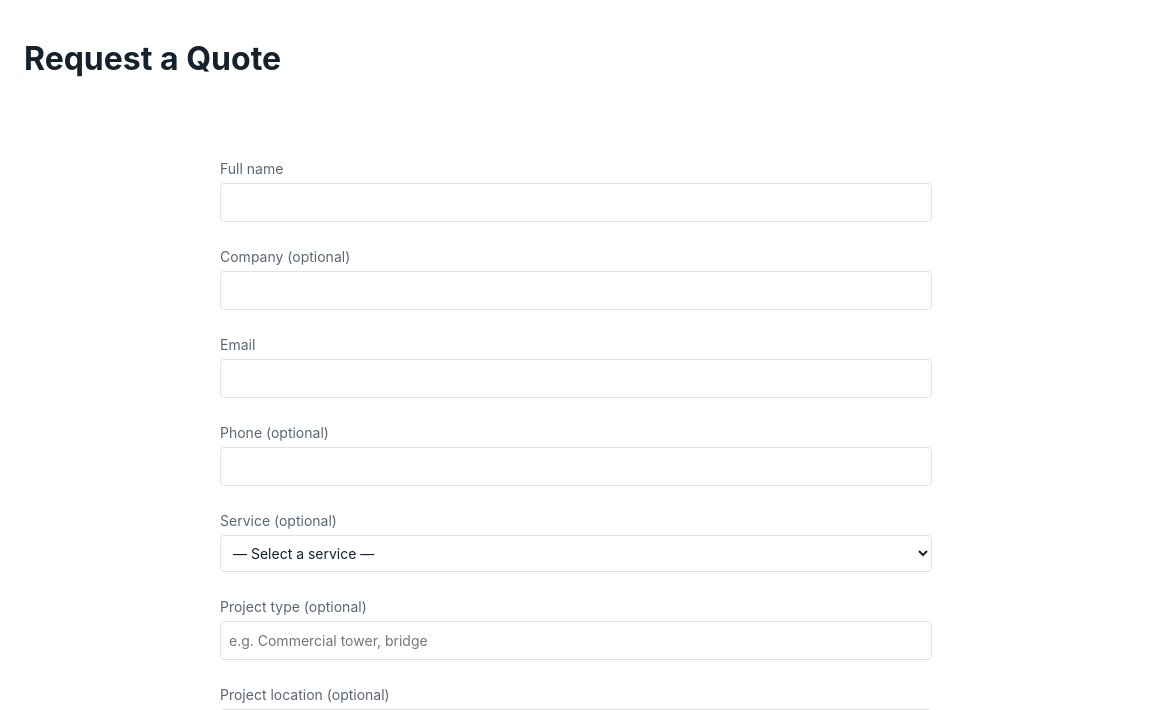
Test: RequestQuotePage › sends service as null when left unselected
Type "Jane Doe" into the field labelled "Full name".
click(576, 203); type("Jane Doe")  # box [220,183,932,222]
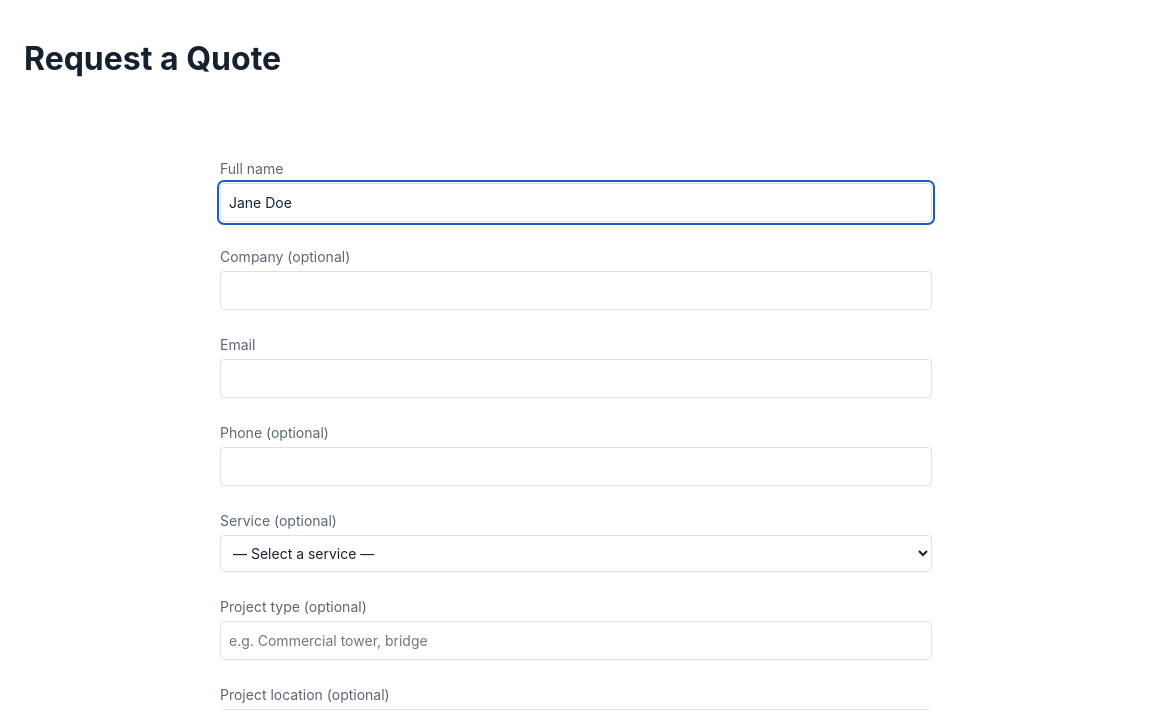
Type "jane@example.com" into the field labelled "Email".
click(576, 379); type("jane@example.com")  # box [220,359,932,398]
(page scrolled)
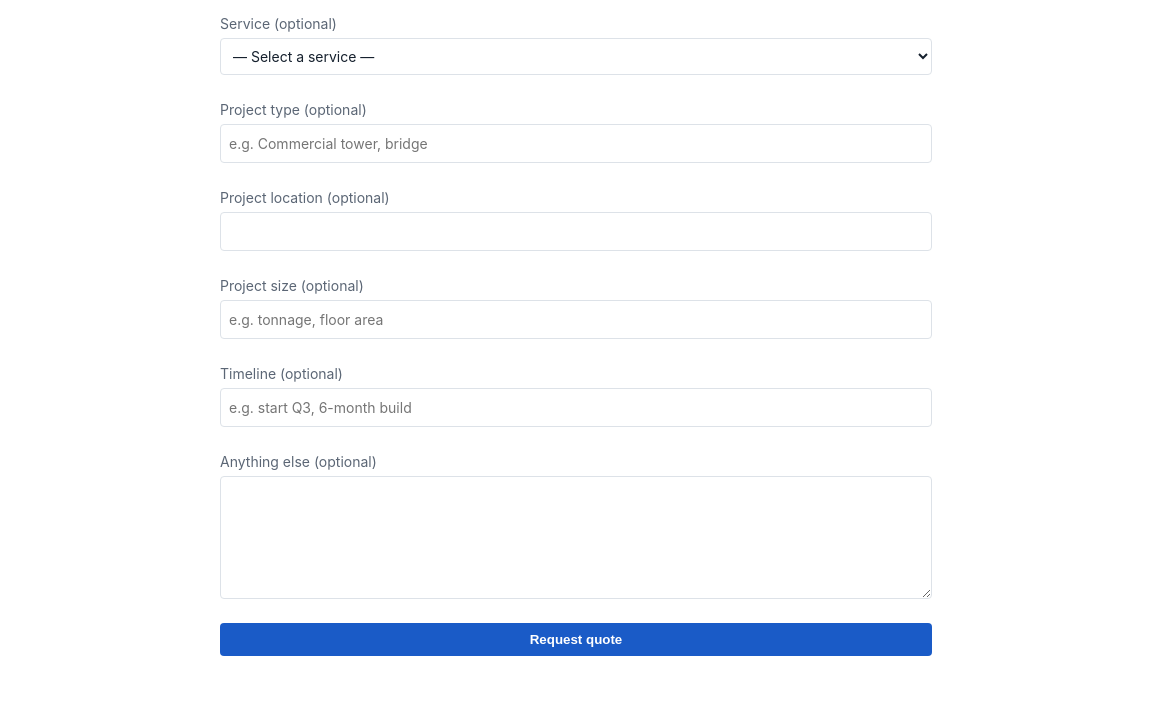
Click the button "Request quote".
click(576, 640)  # box [220,623,932,656]
(page scrolled)
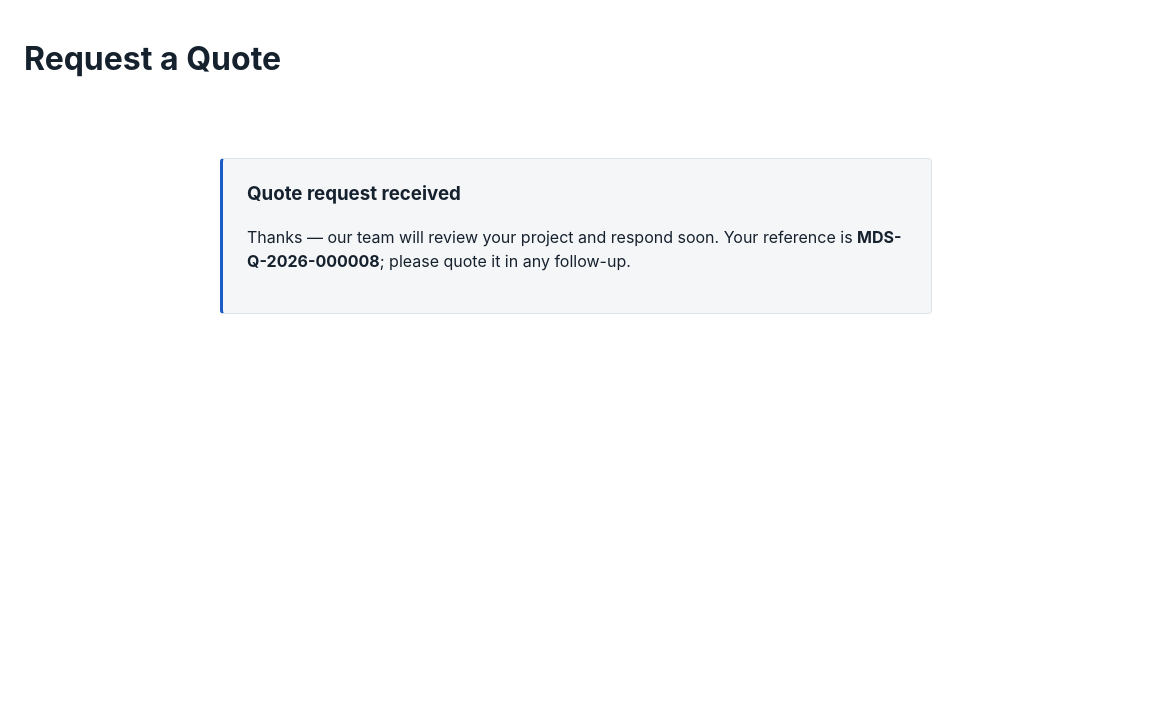
Result: the heading "Quote request received" is shown at [247,182,461,205]
